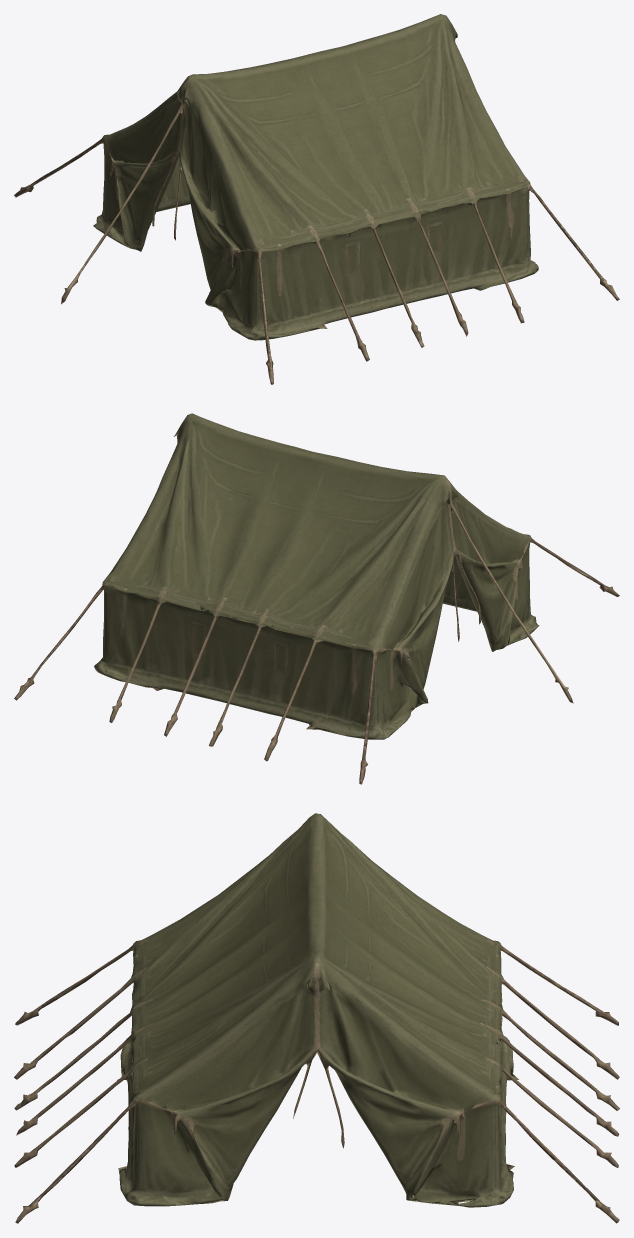
The model's file is prop_tent.glb.
The picture shows the model from 3 angles, top to bottom: view 1: azimuth 30°, elevation 25°; view 2: azimuth 150°, elevation 25°; view 3: azimuth 270°, elevation 25°; orthographic projection. The views are drawn at different scales.
Size of the model in its own units: 0.8321 by 0.3771 by 0.8651.
Materials: 1 (1 with a texture image).
